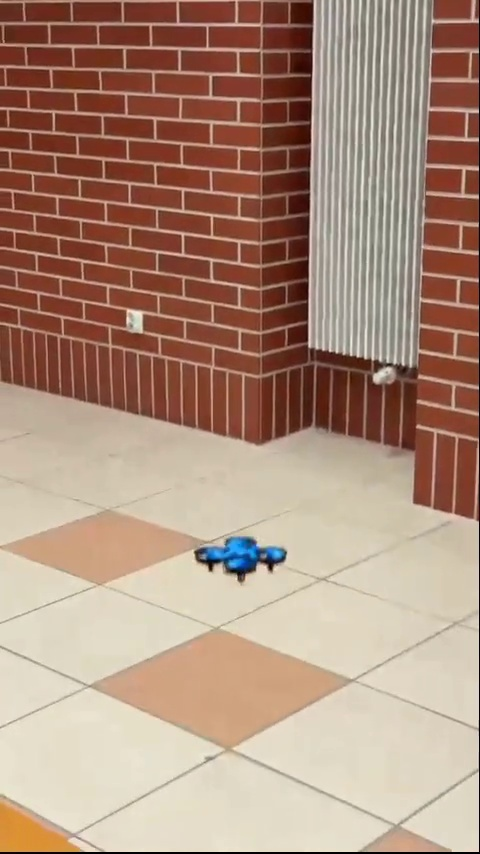drone: (190, 531, 293, 582)
